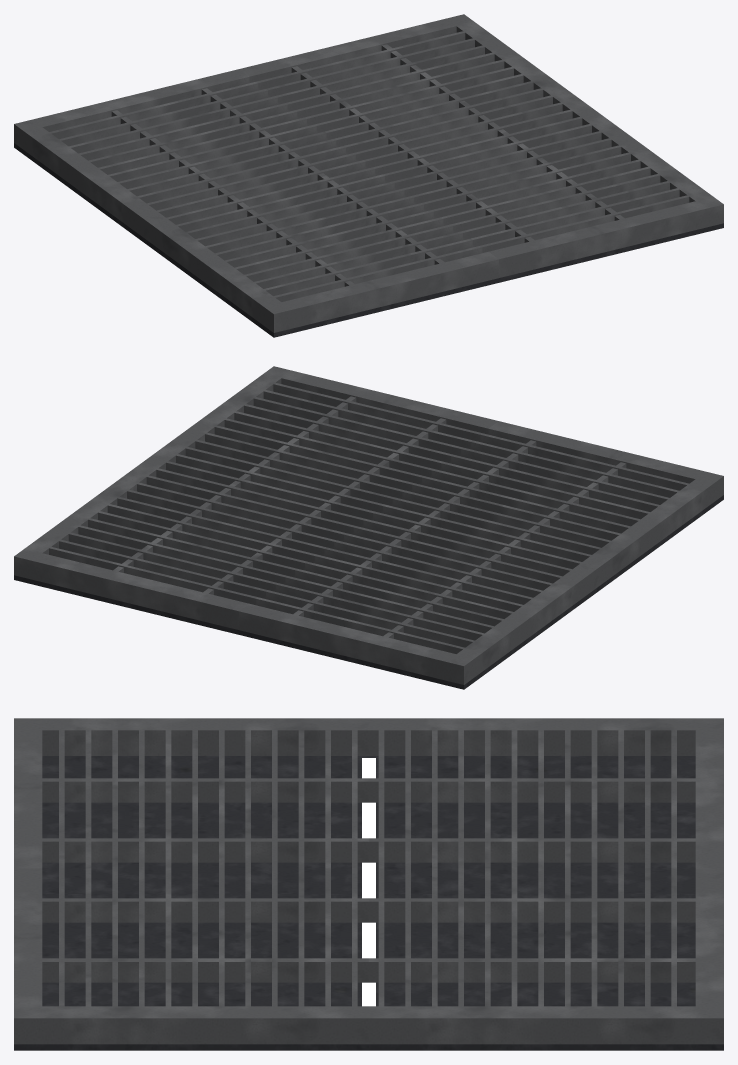
The model's file is floor-grate.glb.
3 views of the same model, one above another, from view 1: azimuth 30°, elevation 25°; view 2: azimuth 150°, elevation 25°; view 3: azimuth 270°, elevation 25° (orthographic). The views are drawn at different scales.
Parts seen in each view (by area): view 1: FloorGrate_gunmetal, FloorGrate_dark; view 2: FloorGrate_gunmetal, FloorGrate_dark; view 3: FloorGrate_gunmetal, FloorGrate_dark, FloorGrate_glow.
Part boxes in pixels (x1,y1,x2,y2): FloorGrate_gunmetal: (14,14,723,332); FloorGrate_dark: (14,143,723,337); FloorGrate_gunmetal: (14,366,723,684); FloorGrate_dark: (14,495,723,689); FloorGrate_gunmetal: (14,718,723,1044); FloorGrate_dark: (14,756,723,1050); FloorGrate_glow: (362,758,375,1006).
Bounding box in the file's own units: 2 × 0.1 × 2.
Materials: 3 (3 with a texture image).
